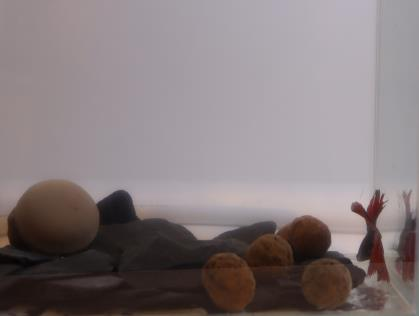fish: (347, 188, 393, 283)
